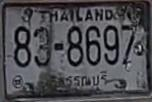3: (34, 26, 52, 66)
6: (86, 25, 100, 65)
7: (121, 24, 135, 66)
8: (15, 25, 32, 67), (66, 25, 83, 66)
9: (103, 24, 119, 64)
SPB: (46, 69, 110, 93)
